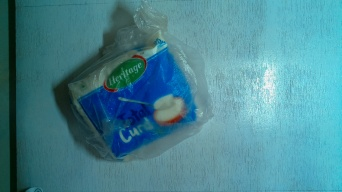m: (65, 37, 209, 165)
